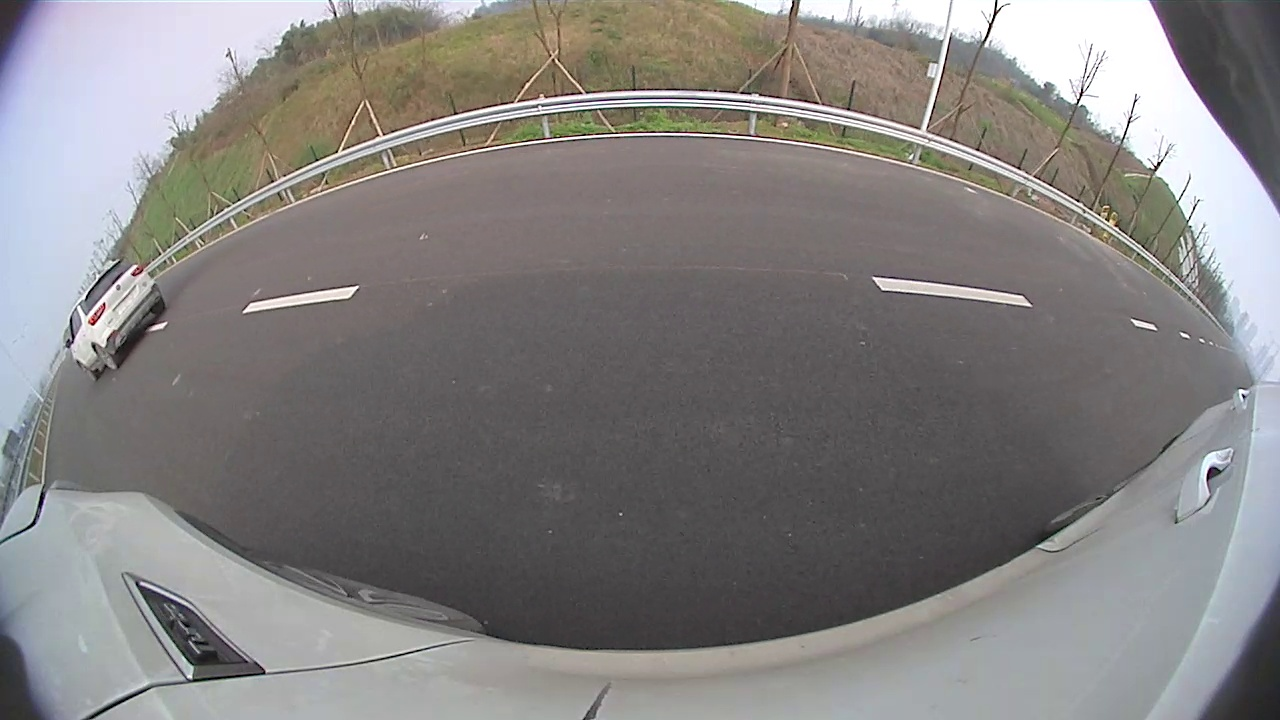car: (162, 52, 549, 276)
front: (341, 172, 431, 259)
rear: (184, 223, 228, 278)
